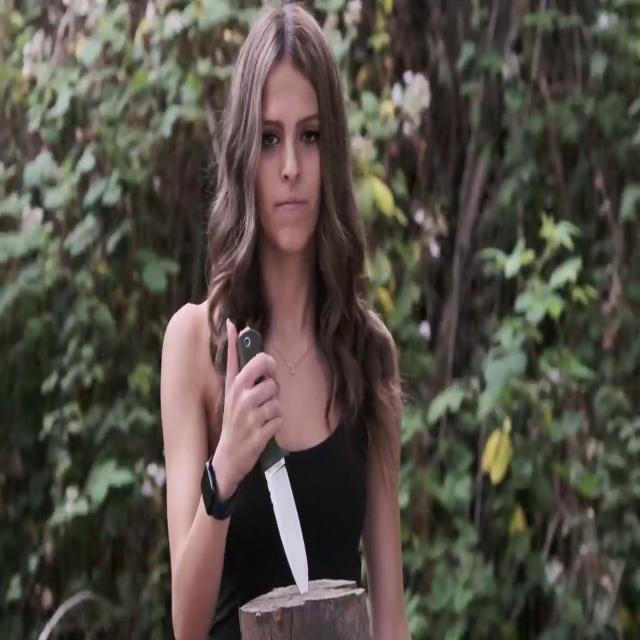Knife: (232, 323, 315, 598)
